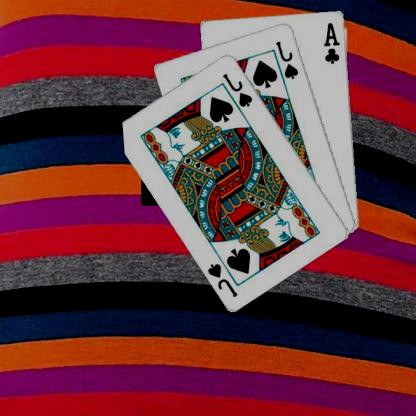AC: (323, 20, 344, 64)
JS: (222, 70, 256, 108), (207, 260, 241, 298), (275, 38, 301, 80)
